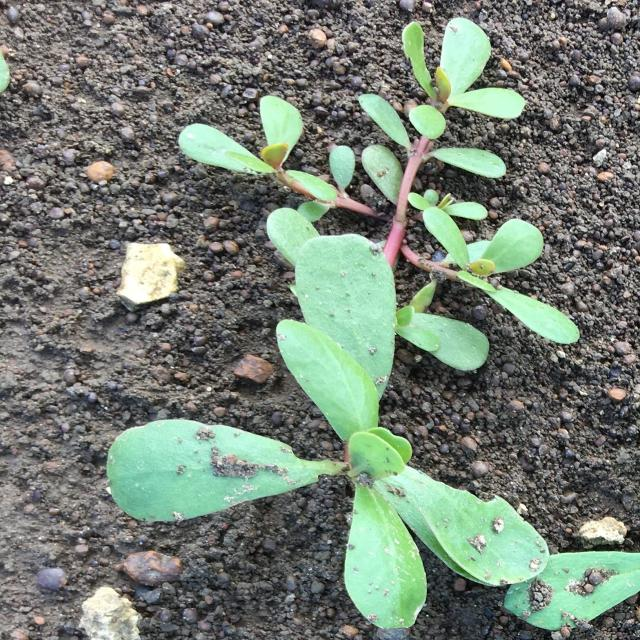Purslane: (107, 18, 581, 630)
